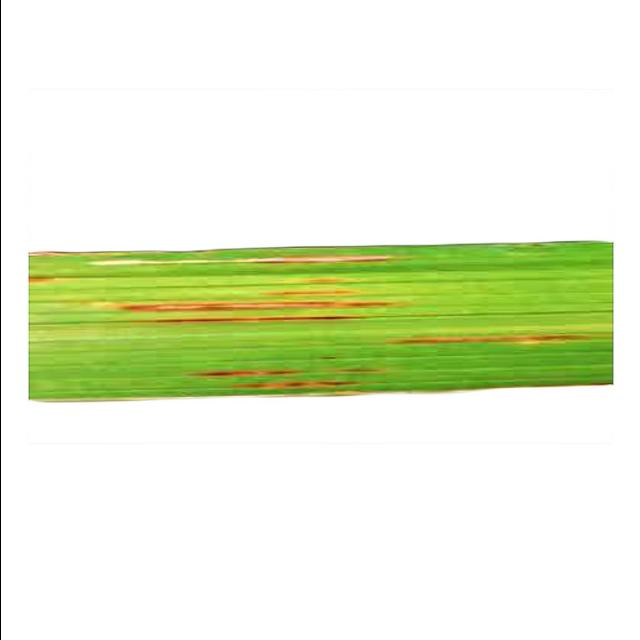Narrow brown: (15, 212, 638, 494)
